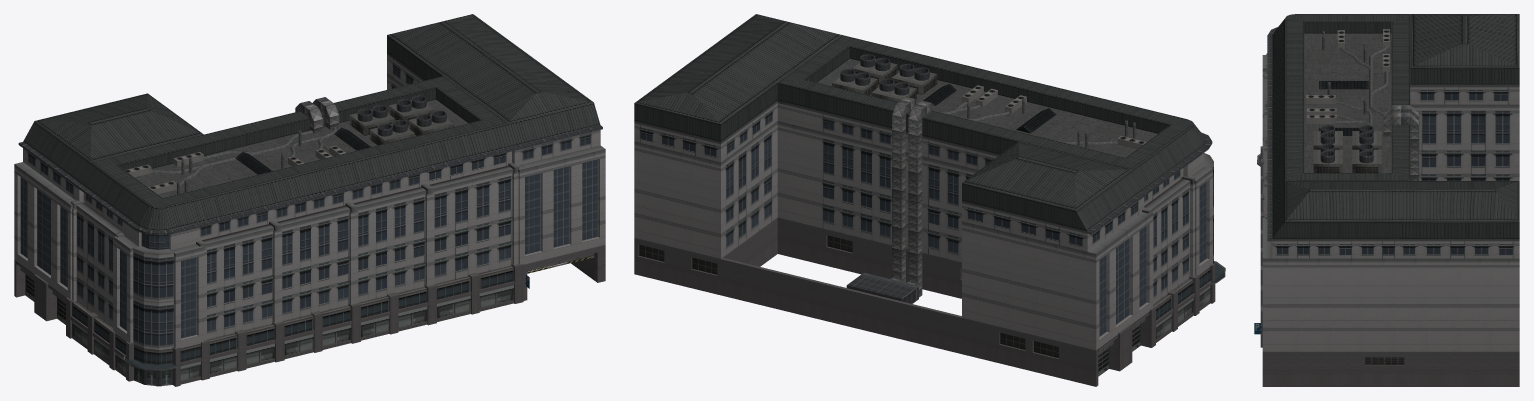
3 views of the same model, side by side, from view 1: azimuth 30°, elevation 25°; view 2: azimuth 150°, elevation 25°; view 3: azimuth 270°, elevation 25° (orthographic). The views are drawn at different scales.
Parts seen in each view (by area): view 1: AIT01W2W4; view 2: AIT01W2W4; view 3: AIT01W2W4.
Boxes of the visible parts, <box> form: AIT01W2W4: <box>14,14,605,386</box>; AIT01W2W4: <box>634,14,1225,386</box>; AIT01W2W4: <box>1254,14,1519,386</box>.
Bounding box in the file's own units: 6471 × 2509 × 3304.
1 material, 1 textured.
